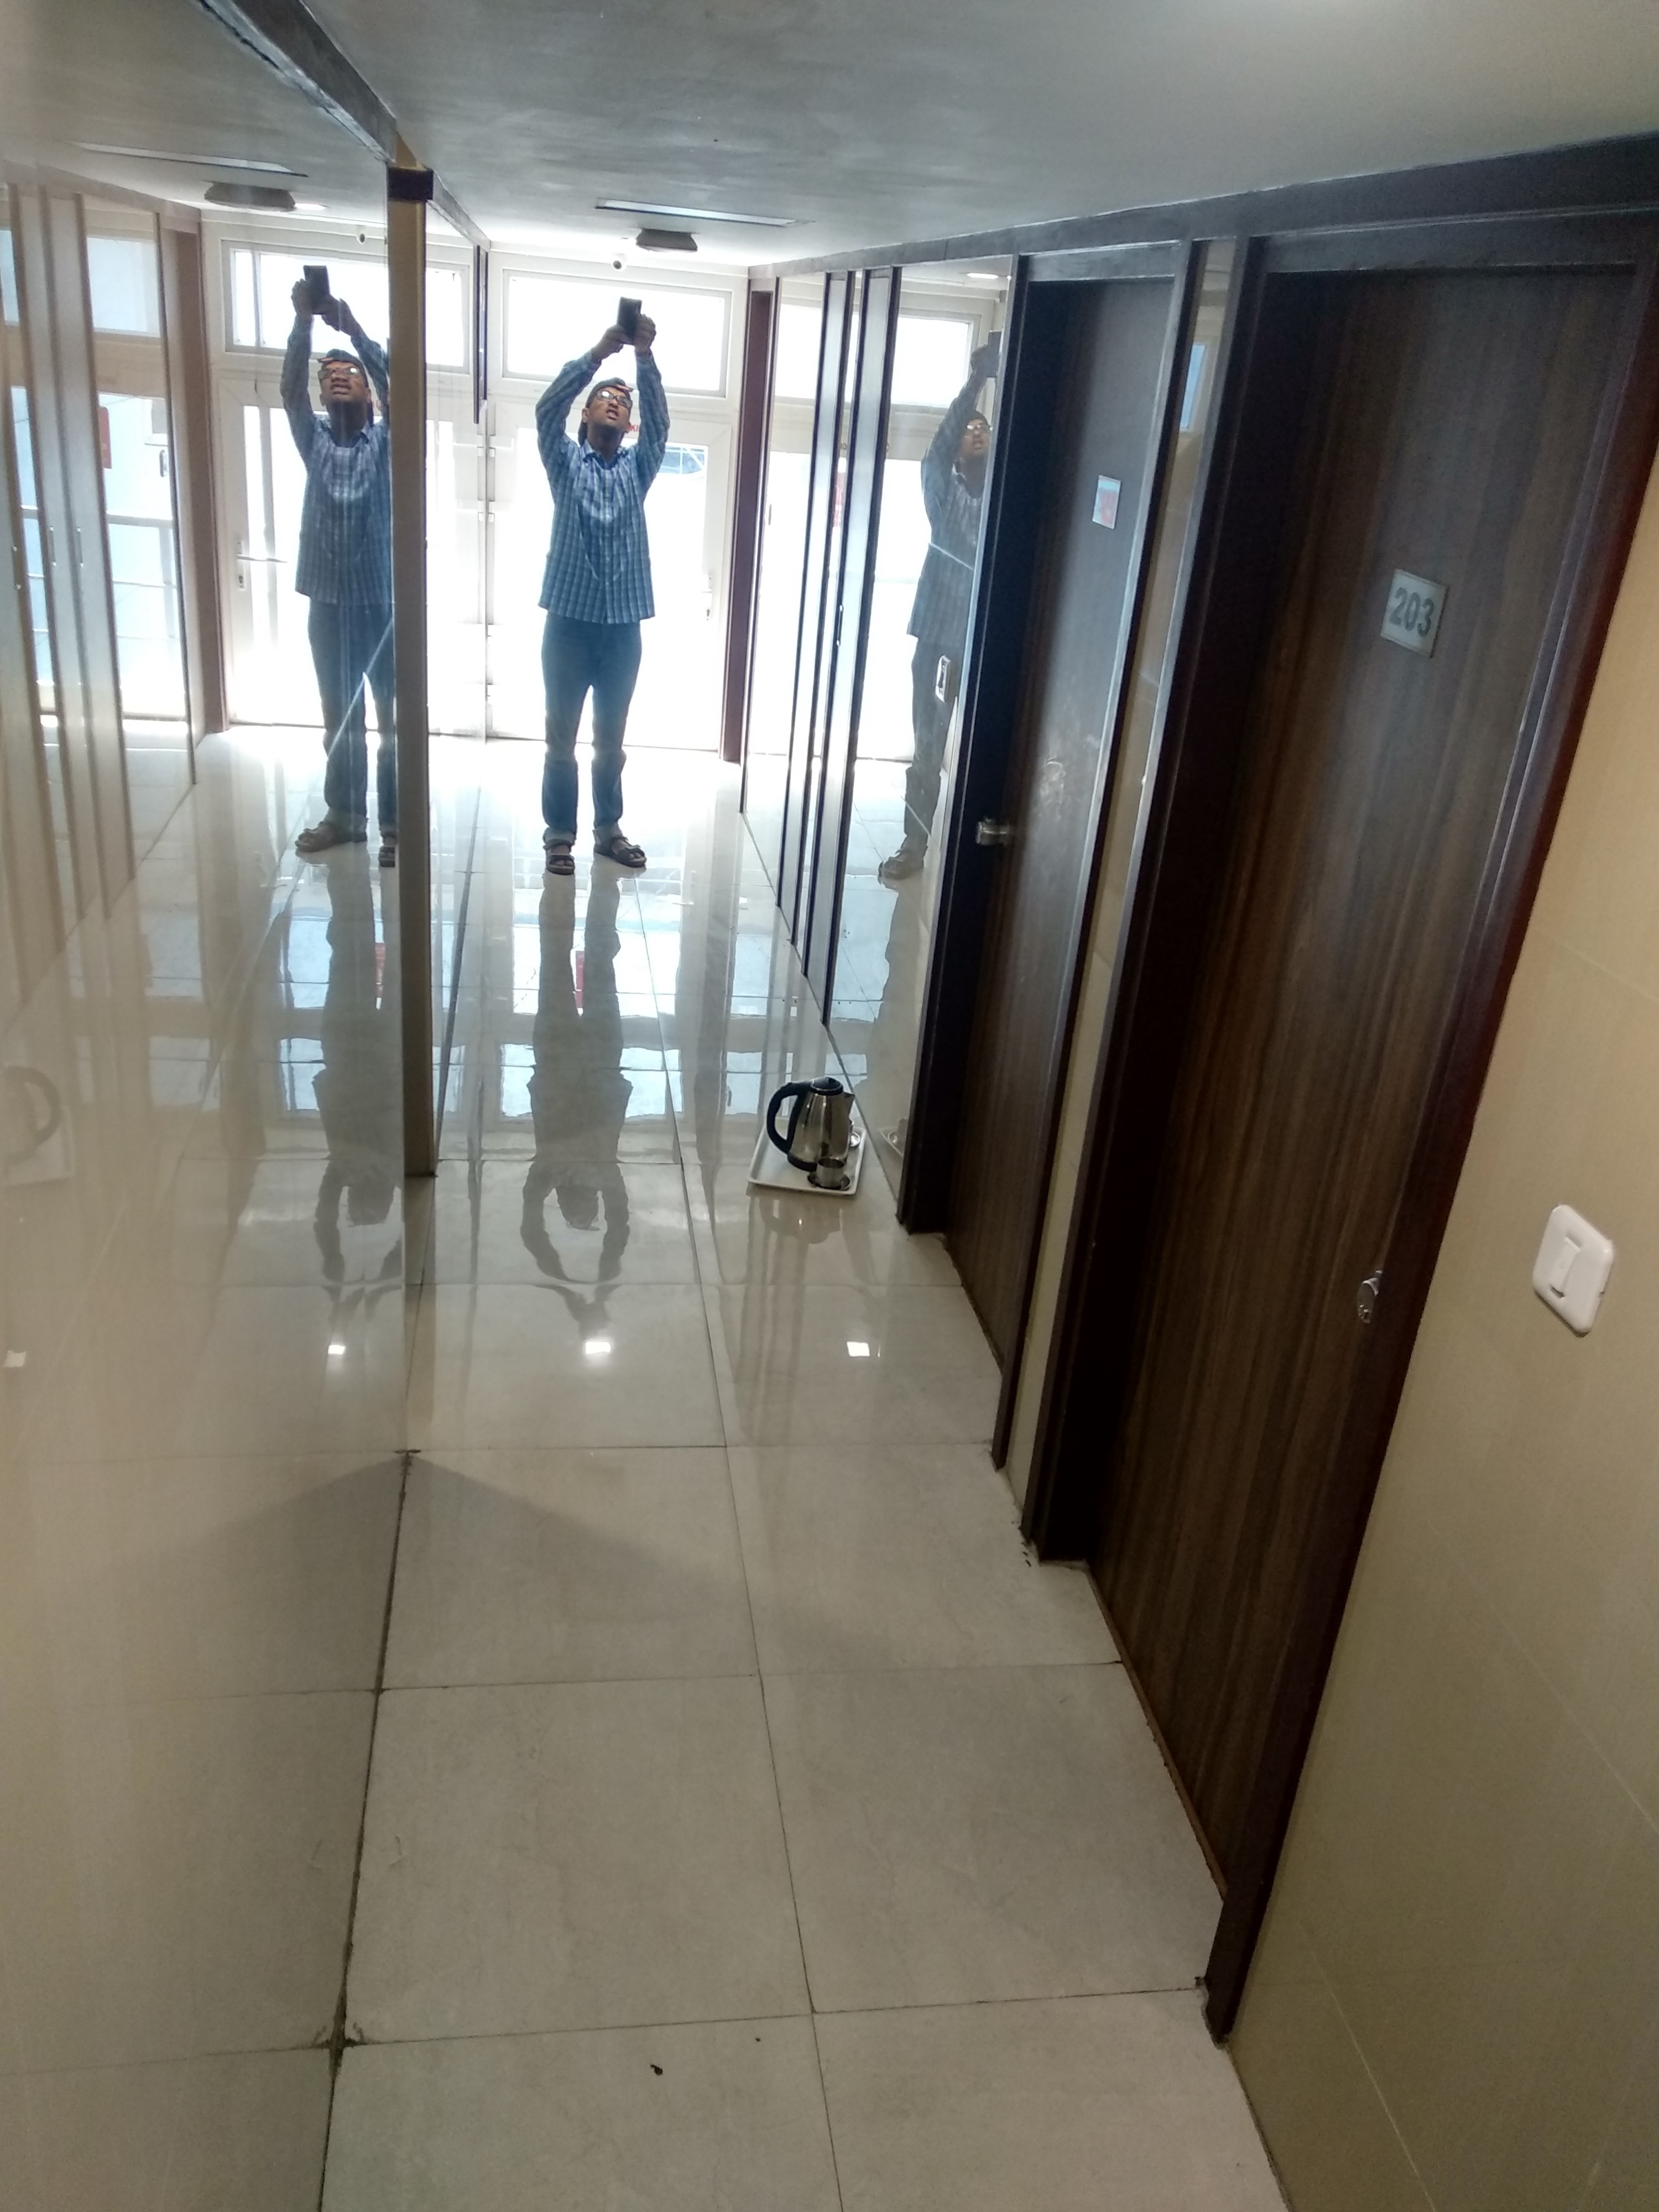CUP: (807, 1160, 854, 1191)
JUG: (765, 1066, 863, 1158)
